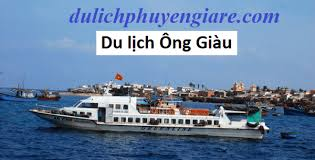tau_dansu: (43, 73, 266, 142)
